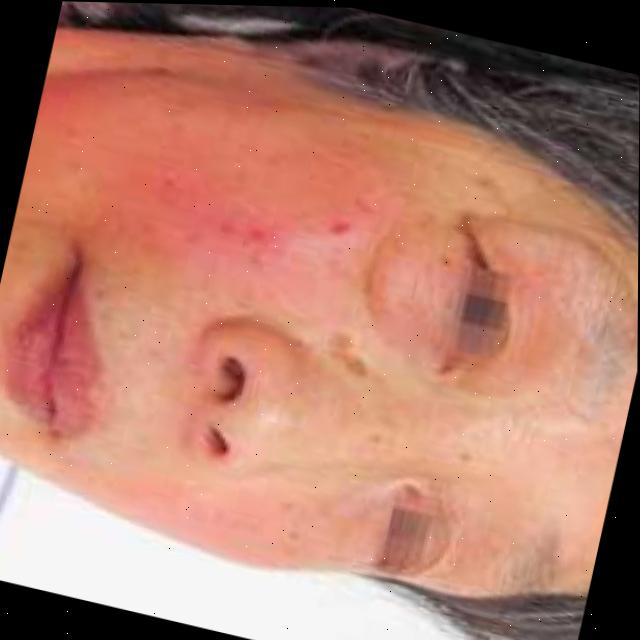Rosacea: (8, 51, 411, 326), (47, 427, 332, 583)
